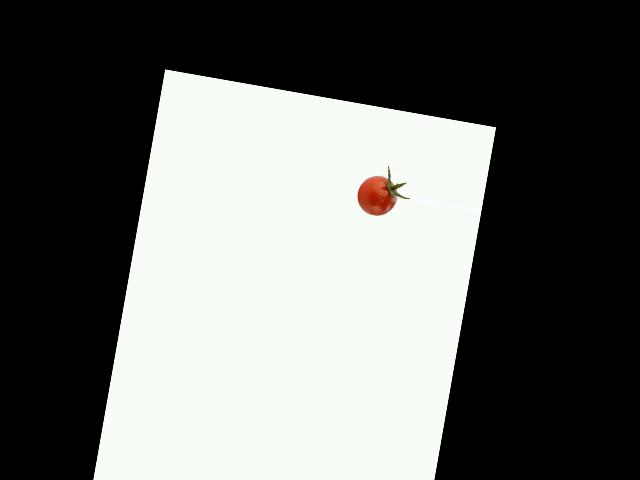tomato: (354, 173, 399, 219)
